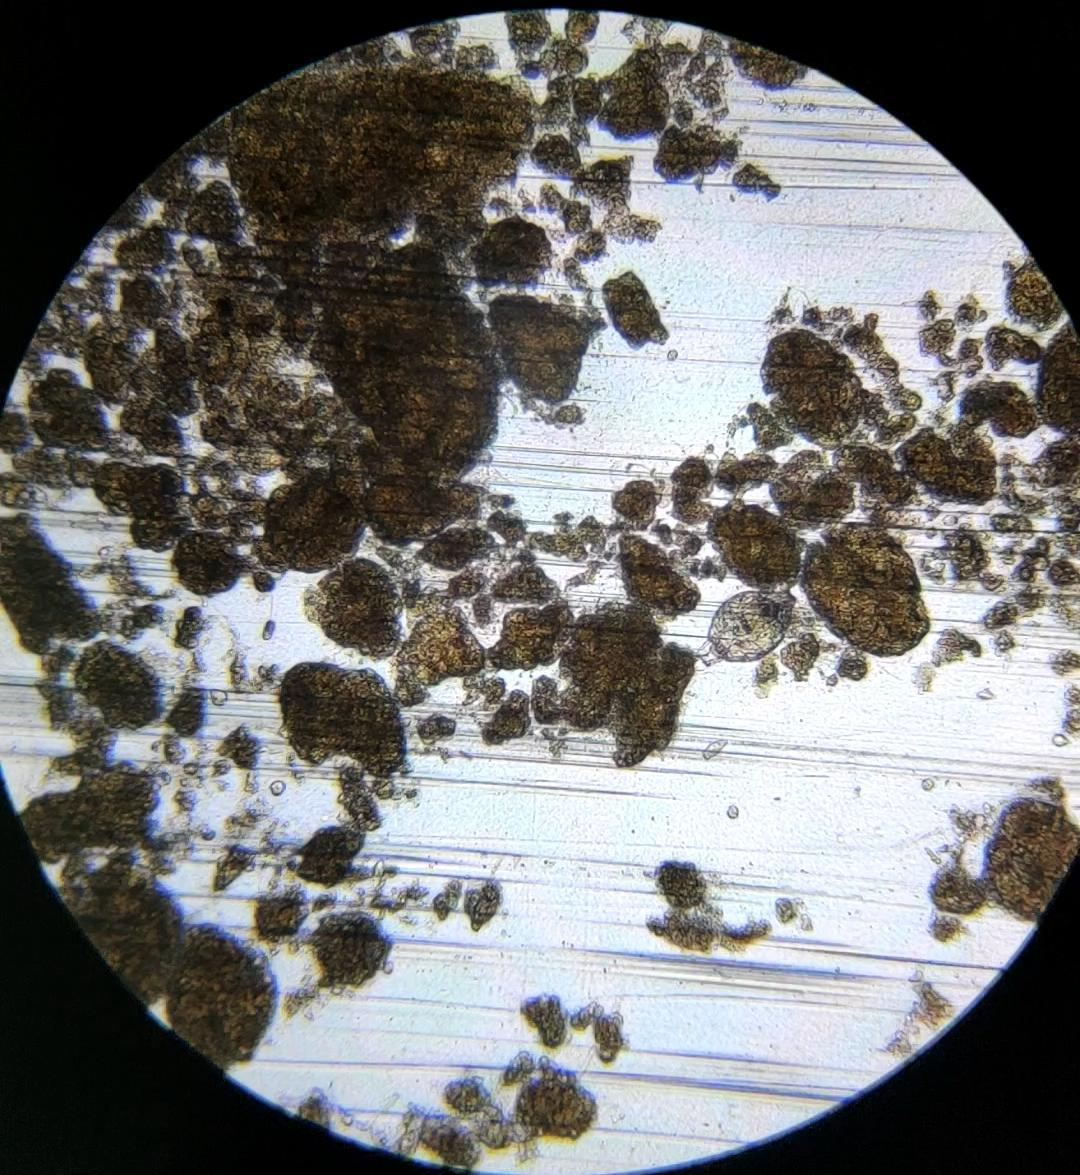Do: (695, 591, 797, 667)
